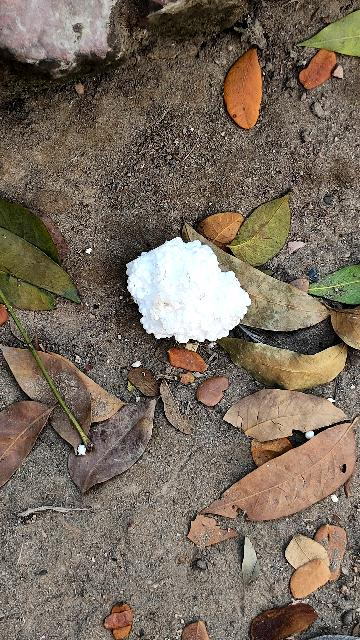cocksheet: (119, 223, 251, 354)
